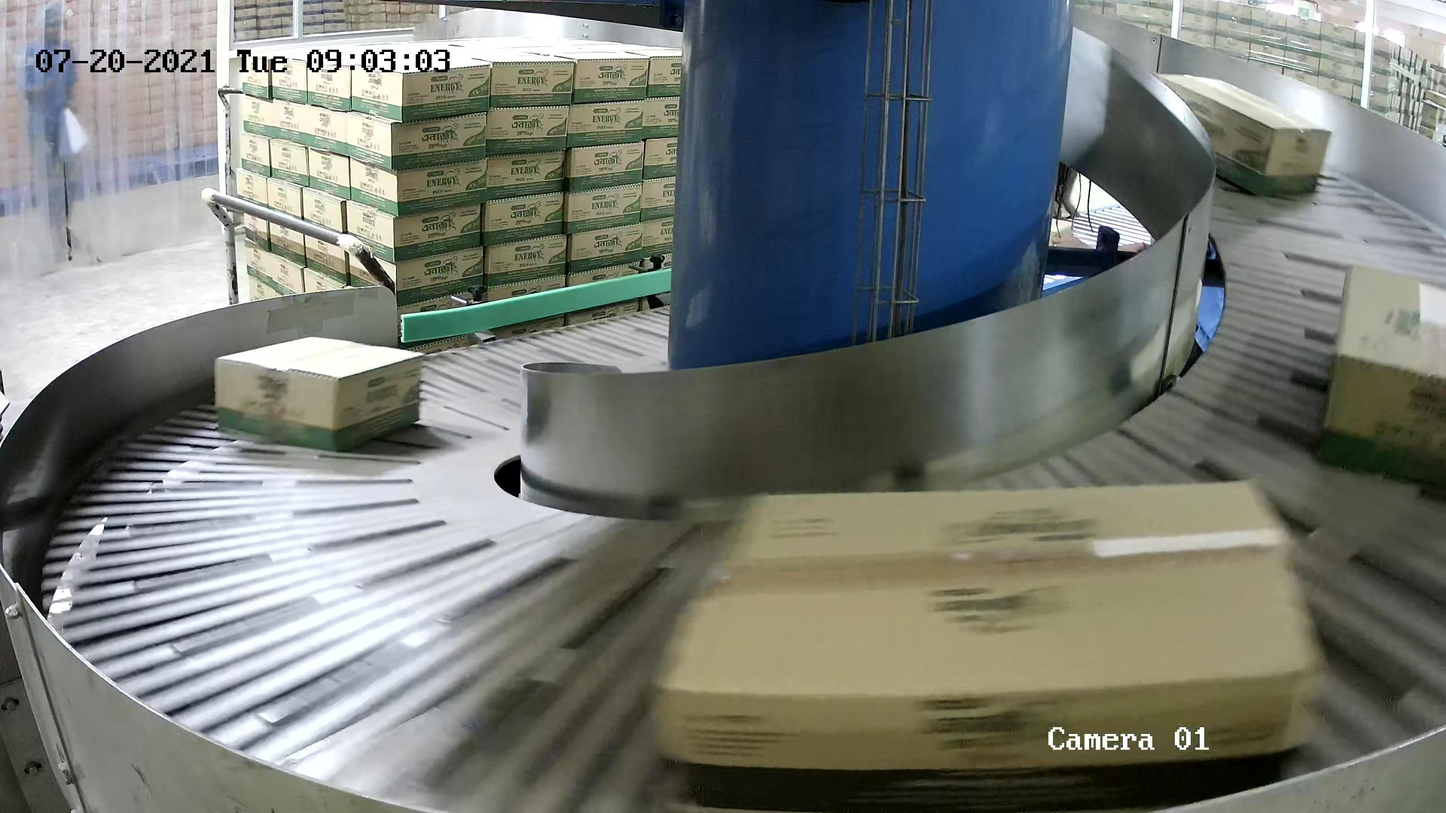Box: (651, 475, 1329, 813), (1318, 263, 1446, 478), (213, 335, 425, 453), (1149, 70, 1334, 197)
